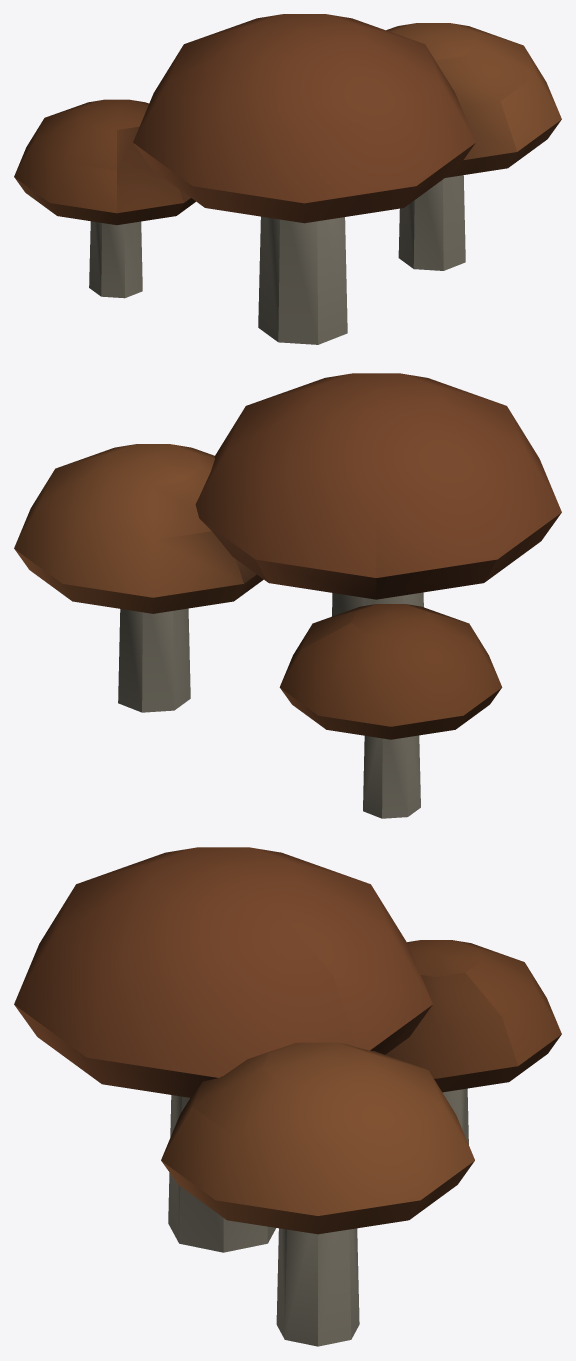
The model's file is setas.glb.
The picture shows the model from 3 angles, top to bottom: view 1: azimuth 30°, elevation 25°; view 2: azimuth 150°, elevation 25°; view 3: azimuth 270°, elevation 25°; orthographic projection. The views are drawn at different scales.
Visible parts, largest first — view 1: setas; view 2: setas; view 3: setas.
Part boxes in pixels (x1,y1,x2,y2): setas: [14, 14, 561, 344]; setas: [14, 373, 561, 818]; setas: [14, 847, 561, 1346].
Size of the model in its own units: 0.1391 by 0.084 by 0.1159.
